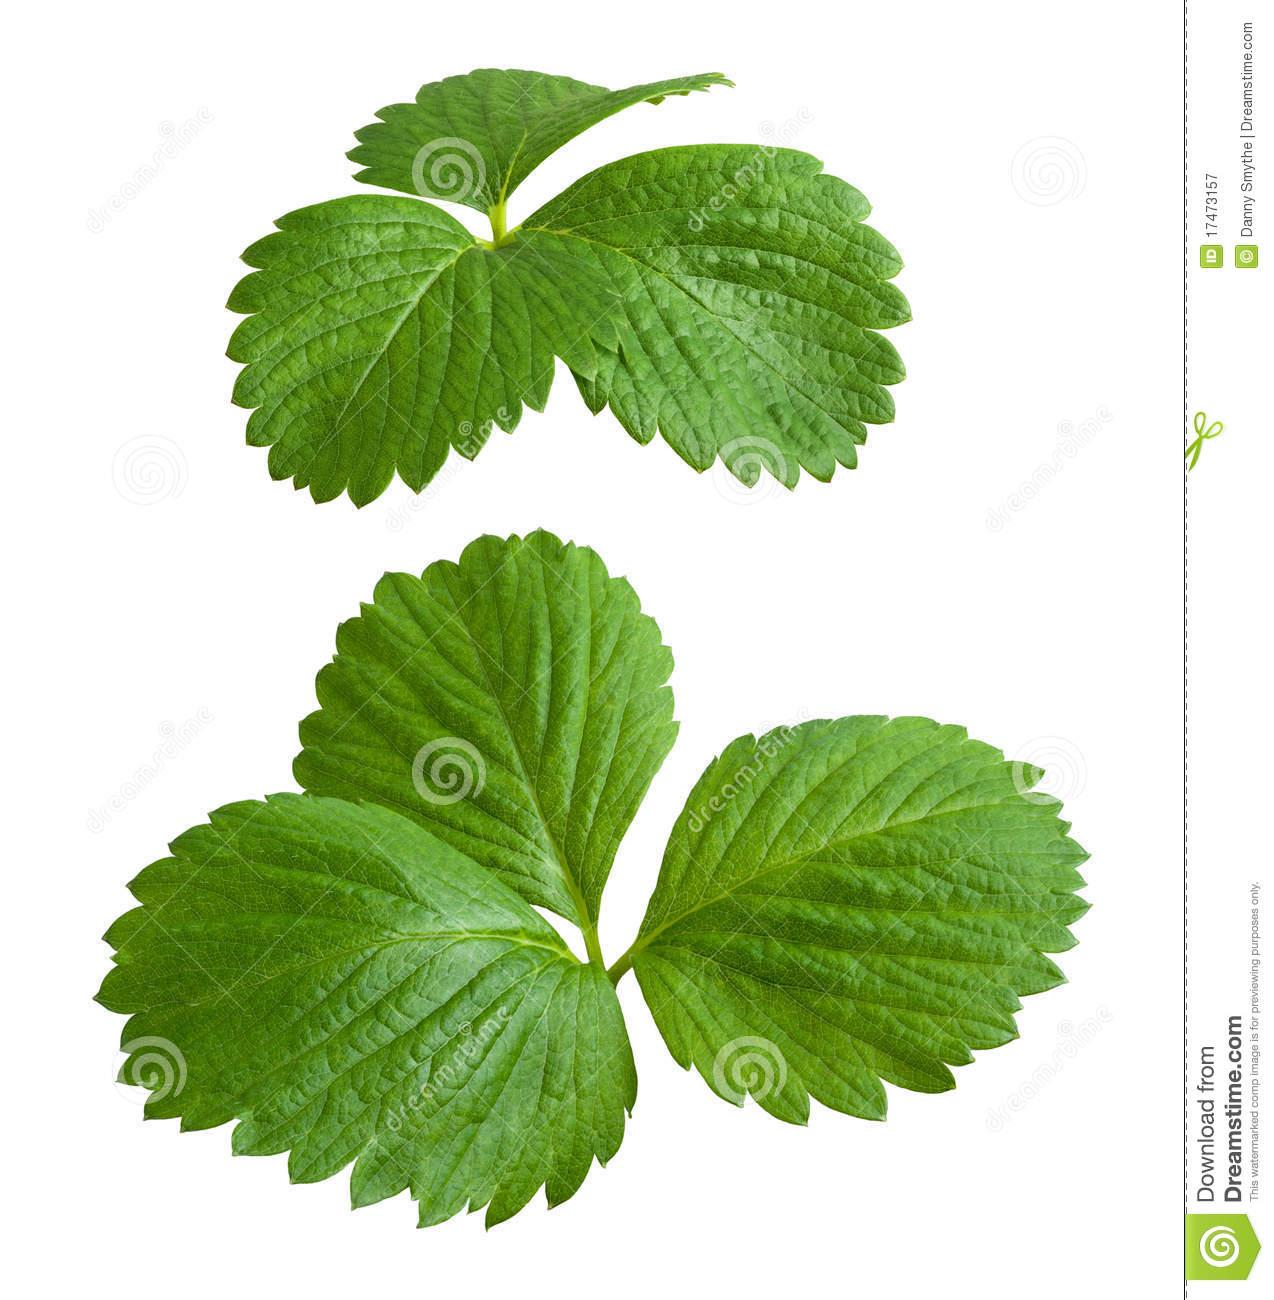Strawberry leaf: (66, 767, 646, 1240), (631, 696, 1091, 1145), (297, 513, 693, 925), (501, 120, 915, 513), (211, 196, 555, 515), (329, 49, 747, 216)
